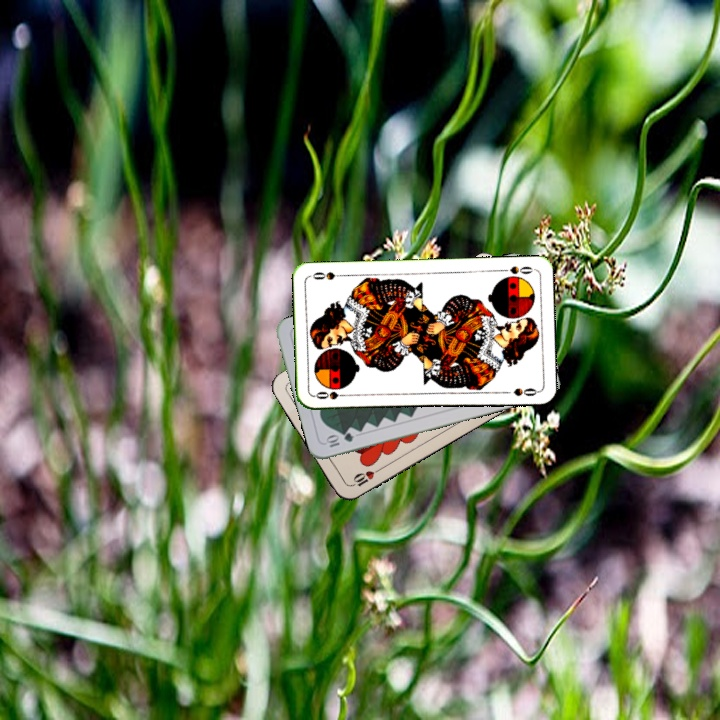G10: (322, 429, 356, 450)
H10: (346, 464, 383, 489)
SO: (311, 387, 351, 402), (496, 262, 535, 277)
